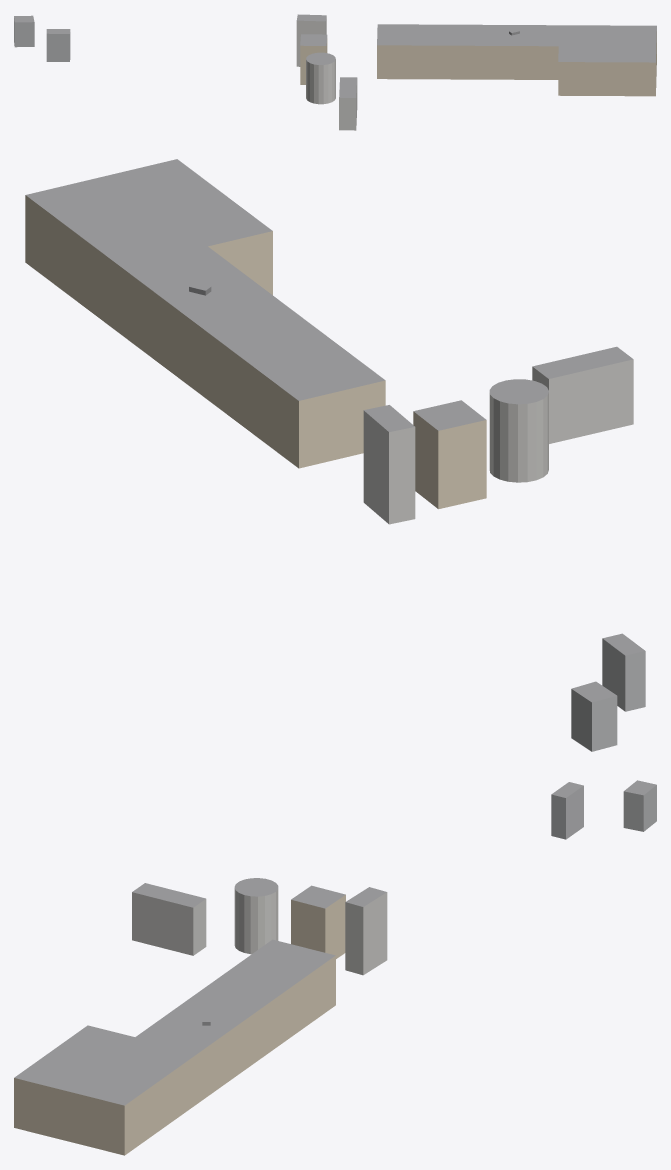
File: building_0_-1.glb
3 renders of one model, top to bottom at view 1: azimuth 30°, elevation 25°; view 2: azimuth 150°, elevation 25°; view 3: azimuth 270°, elevation 25°, orthographic. The views are drawn at different scales.
Visible parts, largest first — view 1: sandstone, roof, concrete_light, industrial; view 2: roof, sandstone, concrete_light, industrial; view 3: roof, sandstone, concrete_light, industrial.
Part boxes in pixels (bbox=[...]): sandstone: bbox=[300, 31, 656, 96]; roof: bbox=[14, 14, 656, 97]; concrete_light: bbox=[296, 17, 357, 130]; industrial: bbox=[14, 18, 70, 61]; roof: bbox=[26, 159, 644, 702]; sandstone: bbox=[25, 195, 486, 509]; concrete_light: bbox=[363, 359, 633, 524]; industrial: bbox=[571, 638, 645, 751]; roof: bbox=[14, 780, 656, 1105]; sandstone: bbox=[14, 895, 345, 1155]; concrete_light: bbox=[132, 888, 387, 975]; industrial: bbox=[551, 785, 656, 839].
Size of the model in its own units: 164 by 15.45 by 132.
